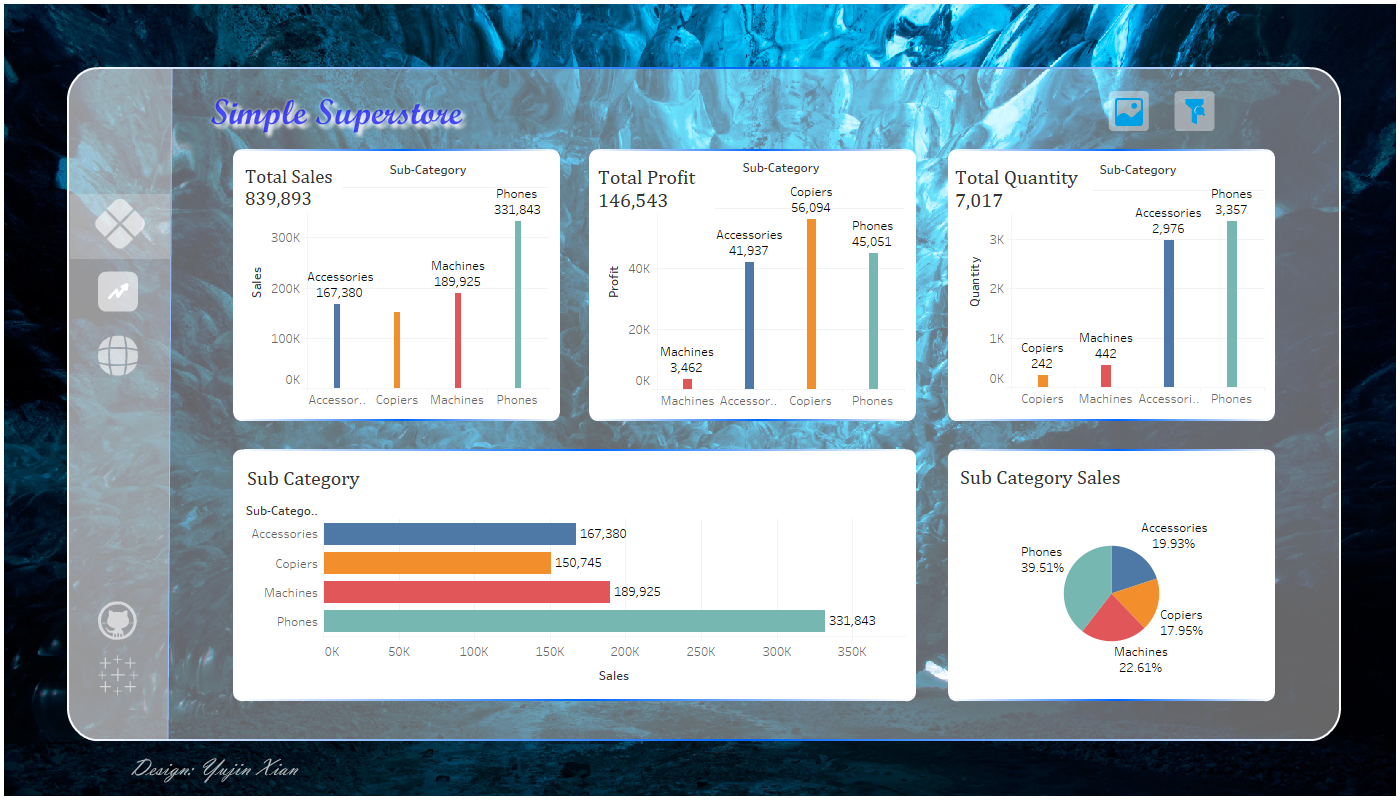

The page's visual inventory and layout, read from the dashboard file:
{"tool":"tableau","page":{"name":"Category Analysis","canvas":[1400,800],"ordinal":0},"visuals":[{"type":"image","param":"E:/My Study/tableau/dashboard/Category Analysis.png","box":[0,0,1400,800]},{"type":"dashboard-object","box":[1179,96,30,30]},{"type":"dashboard-object","box":[1114,97,30,30]},{"type":"worksheet","title":"Profit by Sub Category","mark":"Bar","rows":["Profit"],"cols":["Sub-Category"],"box":[594,153,314,261]},{"type":"worksheet","title":"Sales by Sub Category","mark":"Bar","rows":["Sales"],"cols":["Sub-Category"],"box":[237,155,315,258]},{"type":"worksheet","title":"Quantity by Sub Category","mark":"Automatic","rows":["Quantity"],"cols":["Sub-Category"],"box":[955,155,313,257]},{"type":"worksheet","title":"Total Sales","mark":"Automatic","box":[237,161,130,66]},{"type":"worksheet","title":"Total Profit","mark":"Automatic","box":[590,161,133,63]},{"type":"worksheet","title":"Total Quantity","mark":"Automatic","box":[947,161,150,60]},{"type":"dashboard-object","box":[70,194,100,63]},{"type":"dashboard-object","box":[70,260,100,63]},{"type":"dashboard-object","box":[69,324,100,63]},{"type":"worksheet","title":"Sub Category Sales","mark":"Pie","box":[952,455,319,238]},{"type":"worksheet","title":"Sub Category","mark":"Bar","rows":["Sub-Category"],"cols":["Sales"],"box":[239,456,670,239]},{"type":"image","param":"E:/My Study/tableau/dashboard/Transpert.png","box":[70,596,100,50]},{"type":"image","param":"E:/My Study/tableau/dashboard/Transpert.png","box":[70,650,100,50]}]}

Visuals, with their boxes on the page's 1400x800 design canvas (x1, y1, x2, y2). These are canvas units, not pixel positions in the 1400x800 screenshot, which may show the page scaled, cropped or inside an application window:
image: (left=0, top=0, right=1400, bottom=800)
dashboard-object: (left=1179, top=96, right=1209, bottom=126)
dashboard-object: (left=1114, top=97, right=1144, bottom=127)
"Profit by Sub Category" worksheet (Bar marks): (left=594, top=153, right=908, bottom=414)
"Sales by Sub Category" worksheet (Bar marks): (left=237, top=155, right=552, bottom=413)
"Quantity by Sub Category" worksheet: (left=955, top=155, right=1268, bottom=412)
"Total Sales" worksheet: (left=237, top=161, right=367, bottom=227)
"Total Profit" worksheet: (left=590, top=161, right=723, bottom=224)
"Total Quantity" worksheet: (left=947, top=161, right=1097, bottom=221)
dashboard-object: (left=70, top=194, right=170, bottom=257)
dashboard-object: (left=70, top=260, right=170, bottom=323)
dashboard-object: (left=69, top=324, right=169, bottom=387)
"Sub Category Sales" worksheet (Pie marks): (left=952, top=455, right=1271, bottom=693)
"Sub Category" worksheet (Bar marks): (left=239, top=456, right=909, bottom=695)
image: (left=70, top=596, right=170, bottom=646)
image: (left=70, top=650, right=170, bottom=700)
